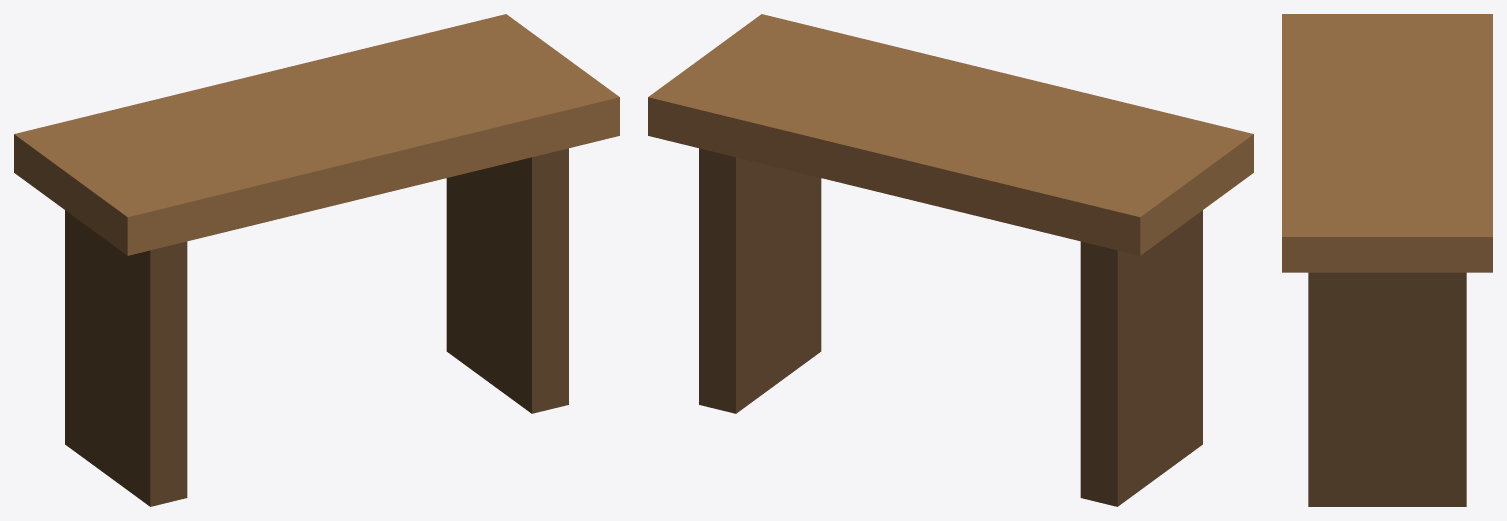
Rendered from Bench.fbx.
The picture shows the model from 3 angles, left to right: view 1: azimuth 30°, elevation 25°; view 2: azimuth 150°, elevation 25°; view 3: azimuth 270°, elevation 25°; orthographic projection. The views are drawn at different scales.
Parts seen in each view (by area): view 1: Kit_Bench; view 2: Kit_Bench; view 3: Kit_Bench.
Boxes of the visible parts, bbox=[...] form: Kit_Bench: bbox=[14, 14, 619, 506]; Kit_Bench: bbox=[648, 14, 1253, 506]; Kit_Bench: bbox=[1282, 14, 1492, 506].
Size of the model in its own units: 0.8 by 0.48 by 0.32.
